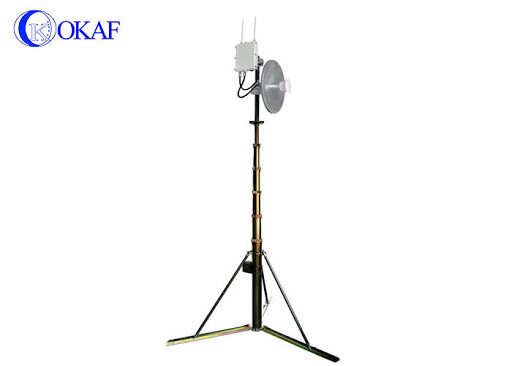b: (256, 54, 294, 115)
